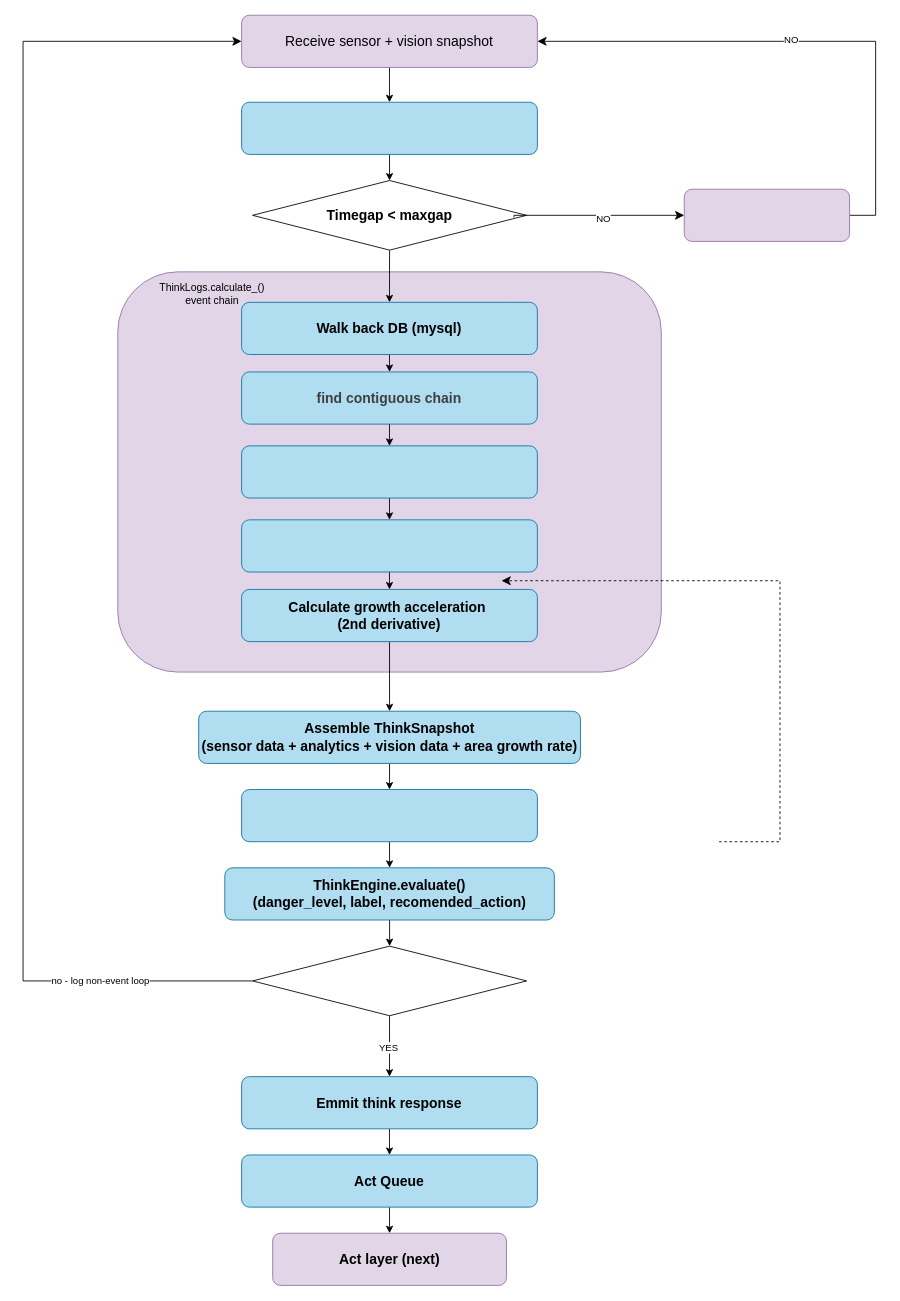
Some shapes in this 900 by 1301 pixel diagram are drawn without their labels. The box of each missing label's shape, as (x1, y1, x2, y2) in pixels:
Calculate avg + variance + rate per sensor: (241, 445, 537, 498)
Calculate growth rate (1st derivative): (241, 519, 537, 572)
Drop older (oull next from queue): (683, 188, 850, 241)
Fire detected?: (252, 945, 527, 1016)
ThinkDatabase.log_event(snapshot) write to DB - Training col = NULL: (241, 789, 537, 842)
ThinkEngine.__init__(): (241, 101, 537, 154)
